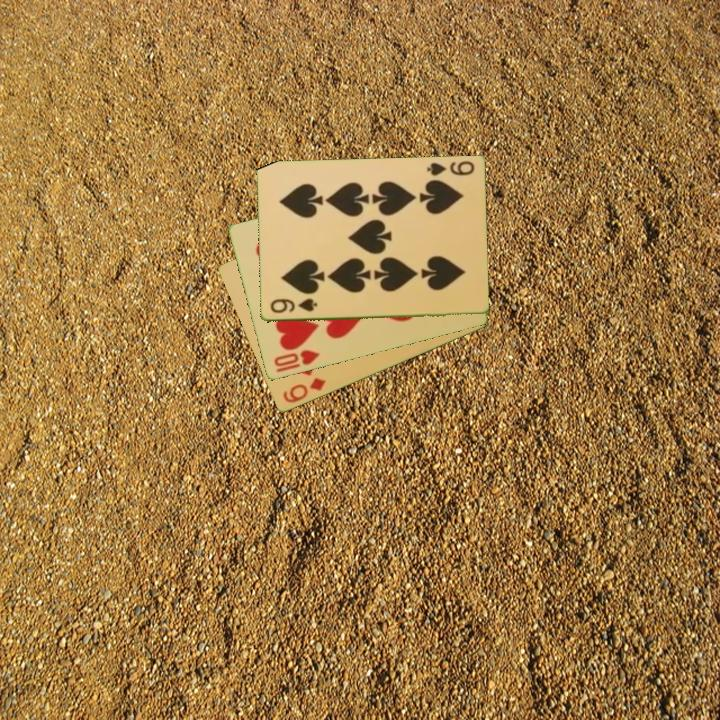10h: (270, 346, 322, 370)
6d: (279, 374, 329, 406)
9s: (423, 158, 477, 179), (267, 295, 320, 316)
